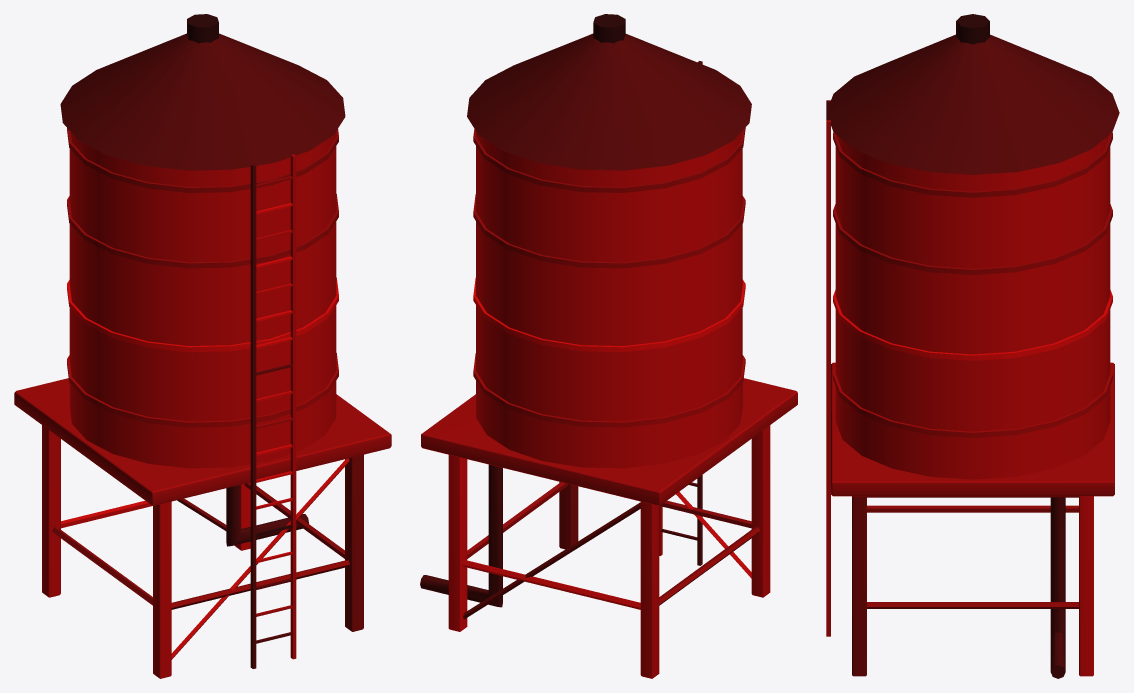
The model's file is water_tank.glb.
3 renders of one model, left to right at view 1: azimuth 30°, elevation 25°; view 2: azimuth 150°, elevation 25°; view 3: azimuth 270°, elevation 25°, orthographic. The views are drawn at different scales.
Parts seen in each view (by area): view 1: water_tank; view 2: water_tank; view 3: water_tank.
Boxes of the visible parts, x1,y1,x2,y2 form: water_tank: (14,14,391,678); water_tank: (420,14,797,678); water_tank: (826,14,1119,678).
Size of the model in its own units: 3.35 by 7.05 by 3.1.
